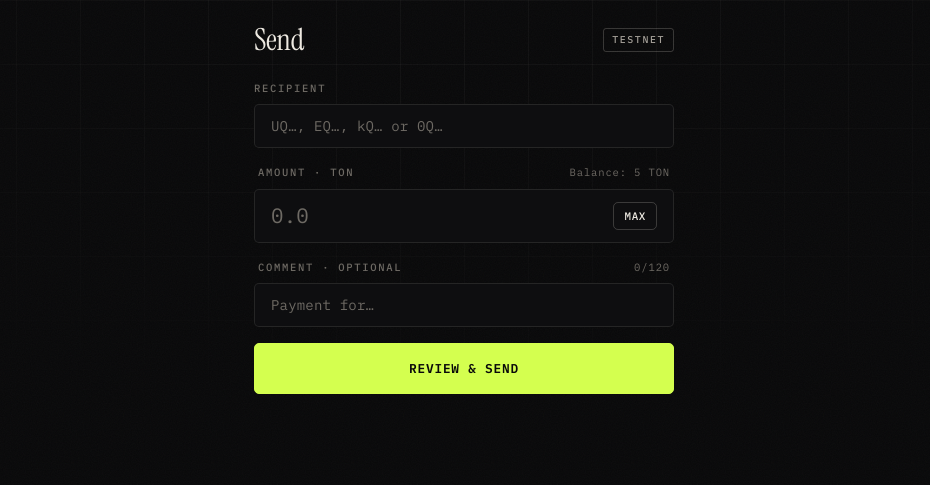
it: Send page — validation › rejects an amount above the balance
Type "EQB8D0jMgaptSs8Jr79WLmFumjm3WxhTT8GyfP_gyRaaSQj5" into the field with placeholder "UQ…, EQ…, kQ… or 0Q…".
click(464, 126); type("EQB8D0jMgaptSs8Jr79WLmFumjm3WxhTT8GyfP_gyRaaSQj5")  # box x1=271 y1=117 x2=657 y2=135
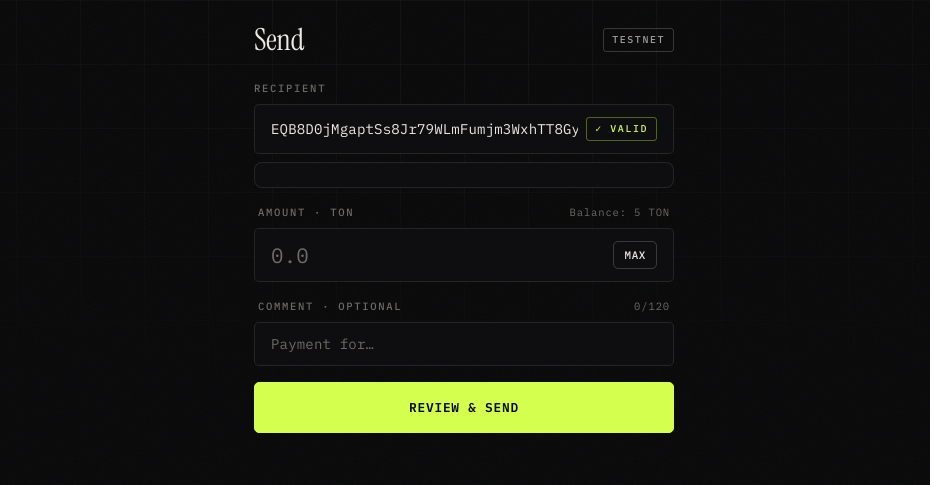
Type "999999" into the field with placeholder "0.0".
click(438, 255); type("999999")  # box x1=271 y1=242 x2=606 y2=268
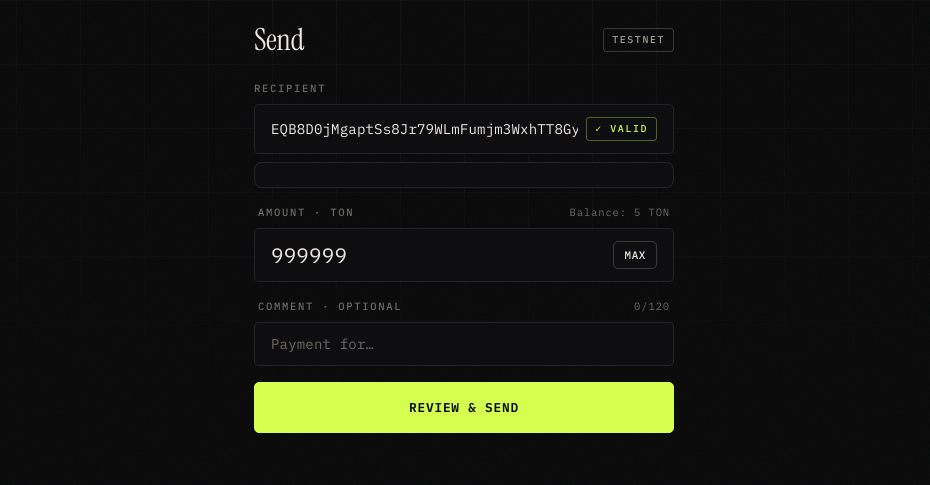
Click the button "Review & Send".
click(464, 408)  # box x1=254 y1=382 x2=674 y2=433
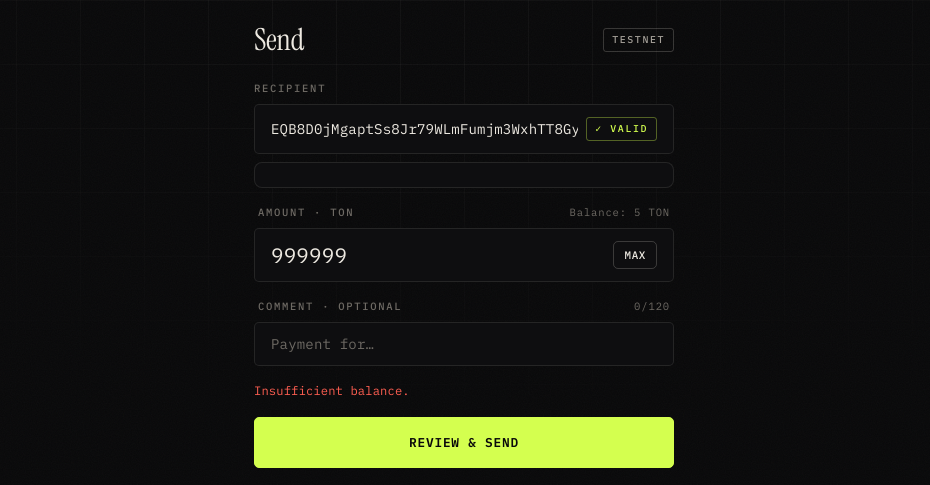
Expected: the text "Insufficient balance." is shown, x1=254 y1=383 x2=410 y2=398
